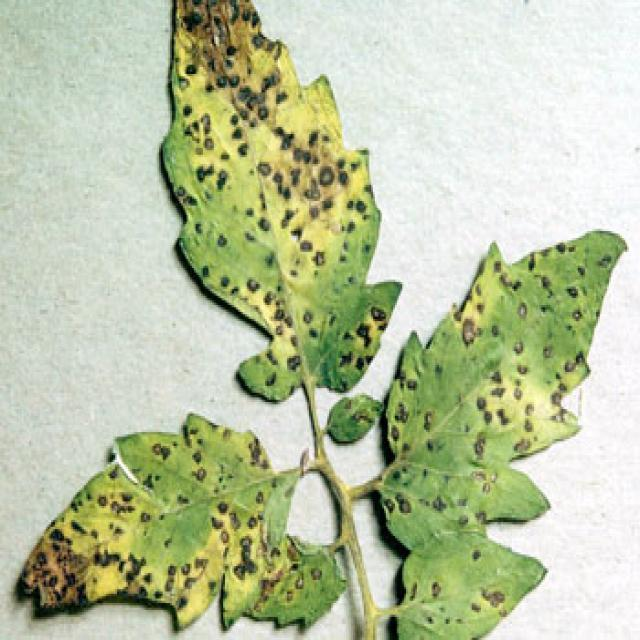Septoria: (164, 6, 386, 387), (31, 416, 342, 640), (384, 234, 632, 456), (380, 552, 530, 635), (369, 466, 534, 532)
